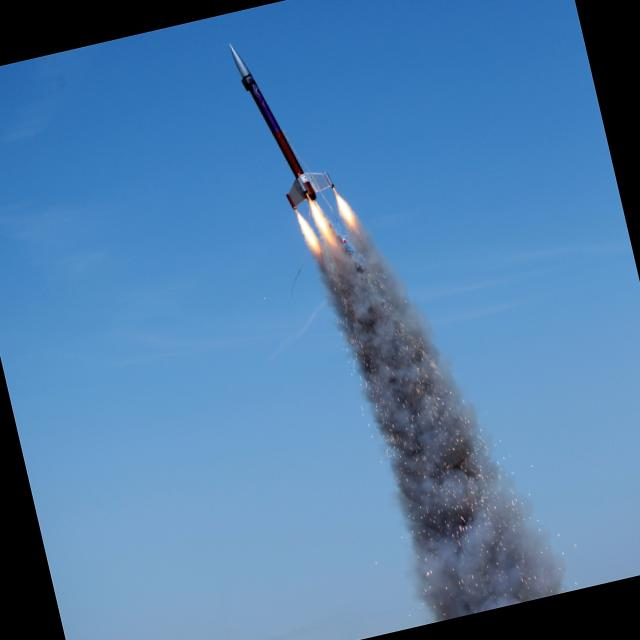rocket: (214, 12, 435, 397)
